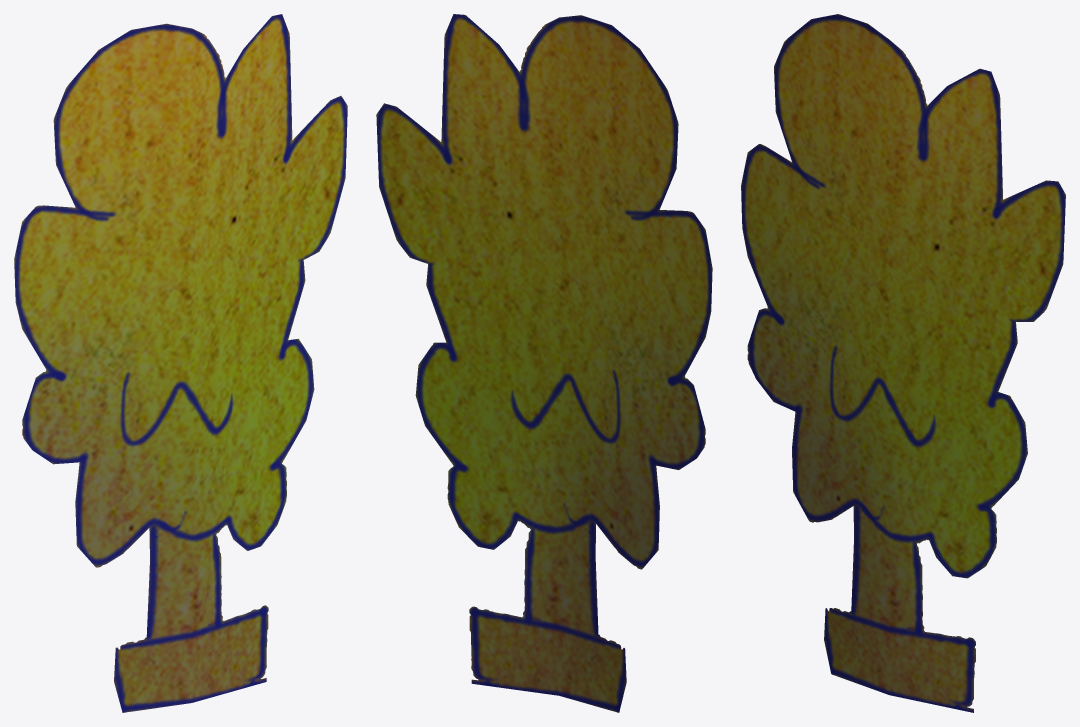
Rendered from 03_plant_01.fbx.
The picture shows the model from 3 angles, left to right: view 1: azimuth 30°, elevation 25°; view 2: azimuth 150°, elevation 25°; view 3: azimuth 330°, elevation 25°; orthographic projection. The views are drawn at different scales.
Parts seen in each view (by area): view 1: 03_plant_01; view 2: 03_plant_01; view 3: 03_plant_01.
Boxes of the visible parts, <box> form: 03_plant_01: <box>14,14,347,712</box>; 03_plant_01: <box>376,14,712,712</box>; 03_plant_01: <box>741,14,1065,712</box>.
Size of the model in its own units: 71.78 by 141 by 4.83.
Materials: 1 (1 with a texture image).
